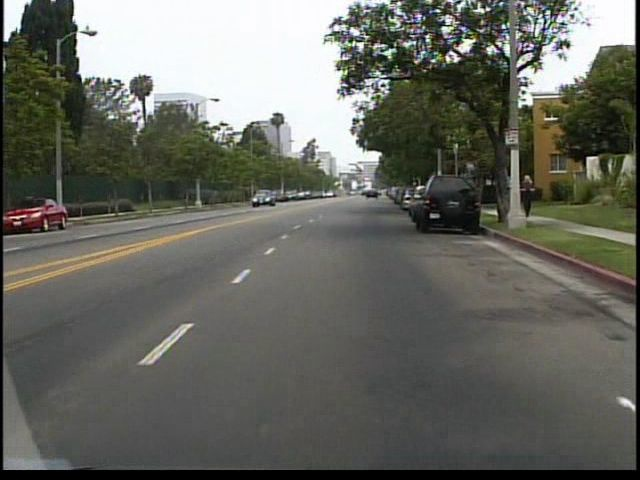person: (520, 170, 538, 219), (504, 165, 521, 213)
